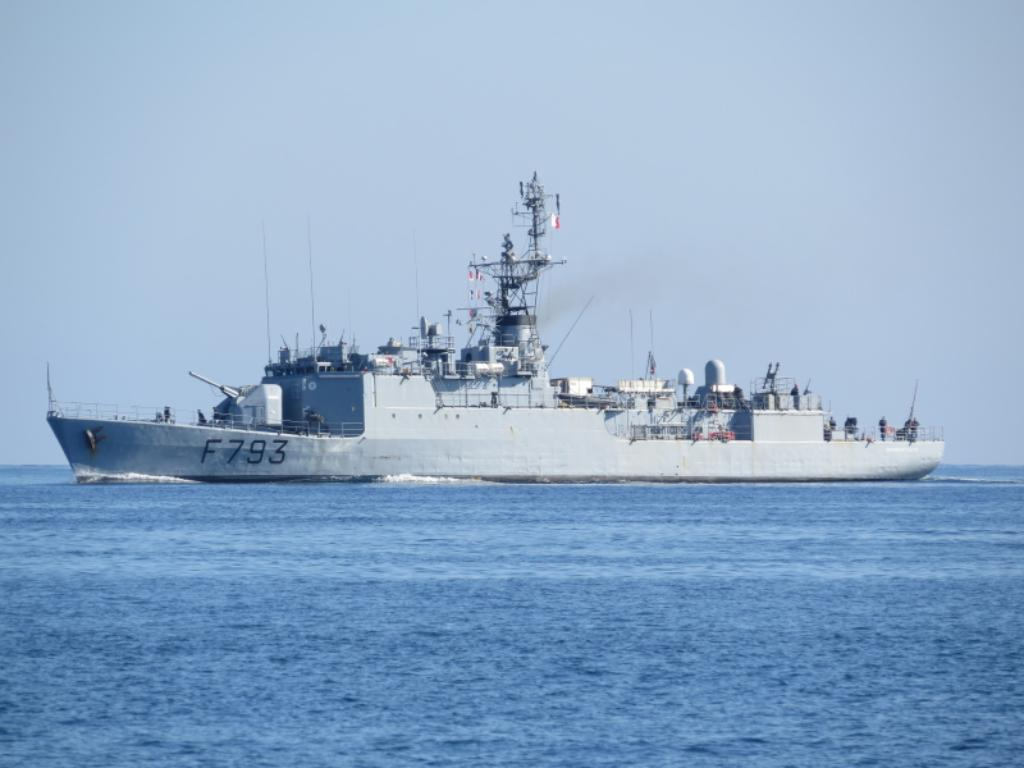Warship: (44, 163, 948, 483)
